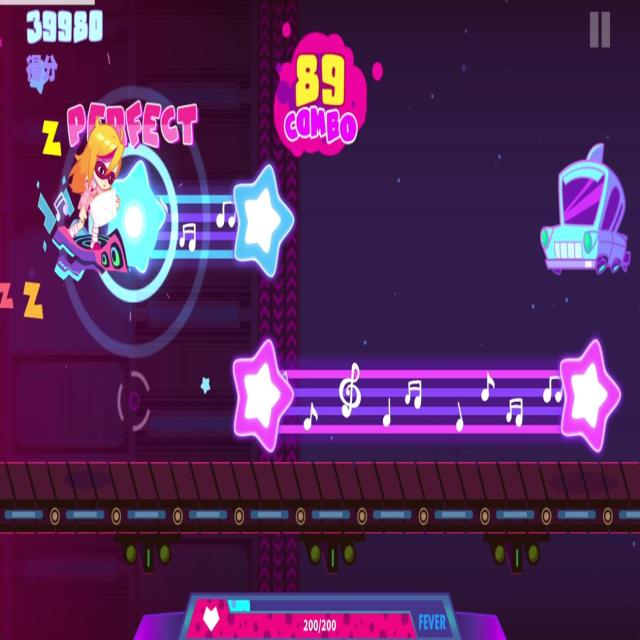che: (542, 147, 632, 280)
hold: (227, 336, 620, 458), (104, 154, 292, 278)
